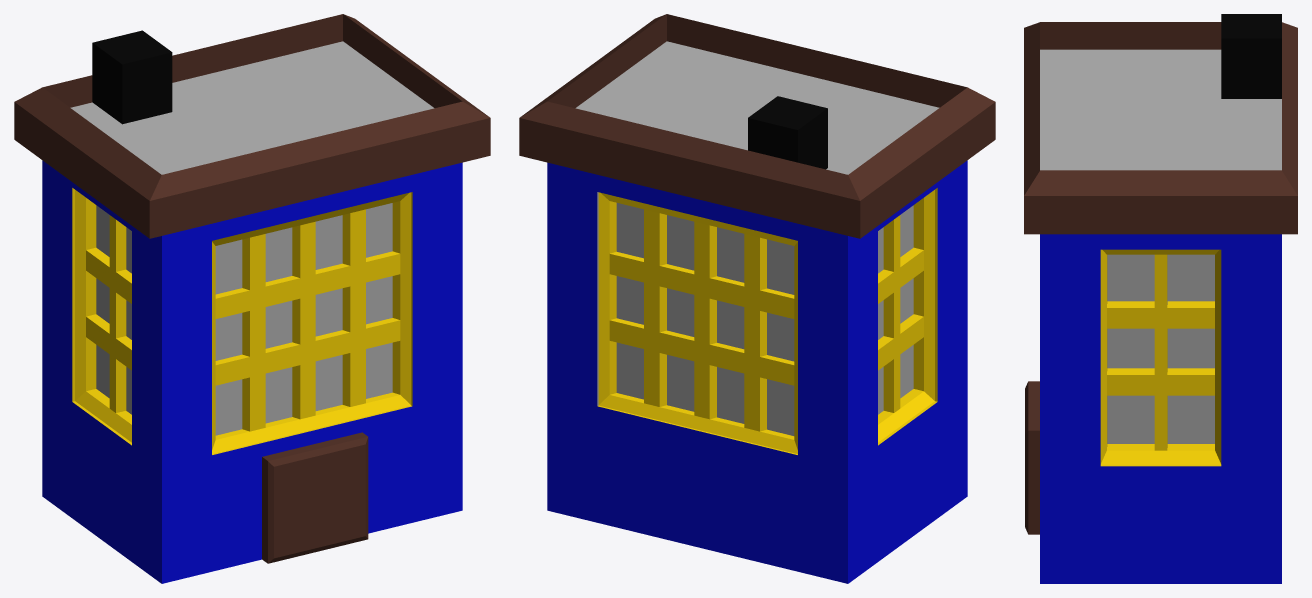
File: Prédio.fbx
3 renders of one model, left to right at view 1: azimuth 30°, elevation 25°; view 2: azimuth 150°, elevation 25°; view 3: azimuth 270°, elevation 25°, orthographic.
Parts seen in each view (by area): view 1: Cube; view 2: Cube; view 3: Cube.
Boxes of the visible parts, left/top/right/bottom form: Cube: left=14, top=14, right=490, bottom=583; Cube: left=519, top=14, right=995, bottom=583; Cube: left=1024, top=14, right=1297, bottom=583.
Bounding box in the file's own units: 701 × 868 × 482.
